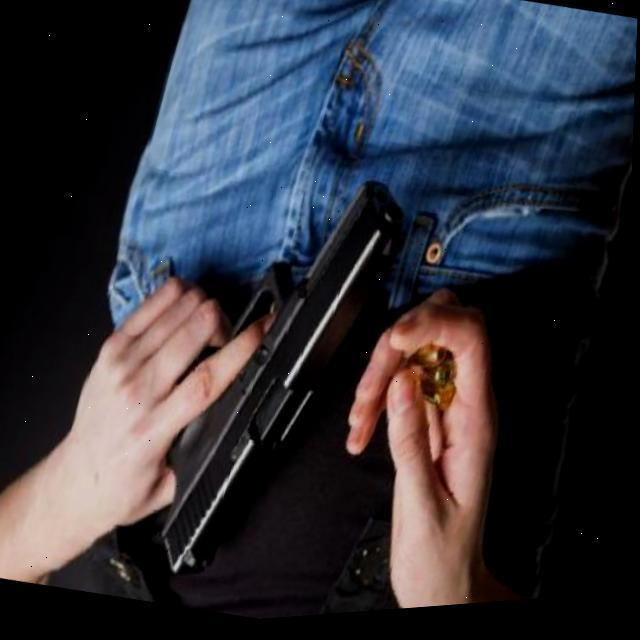gun: (95, 126, 427, 620)
